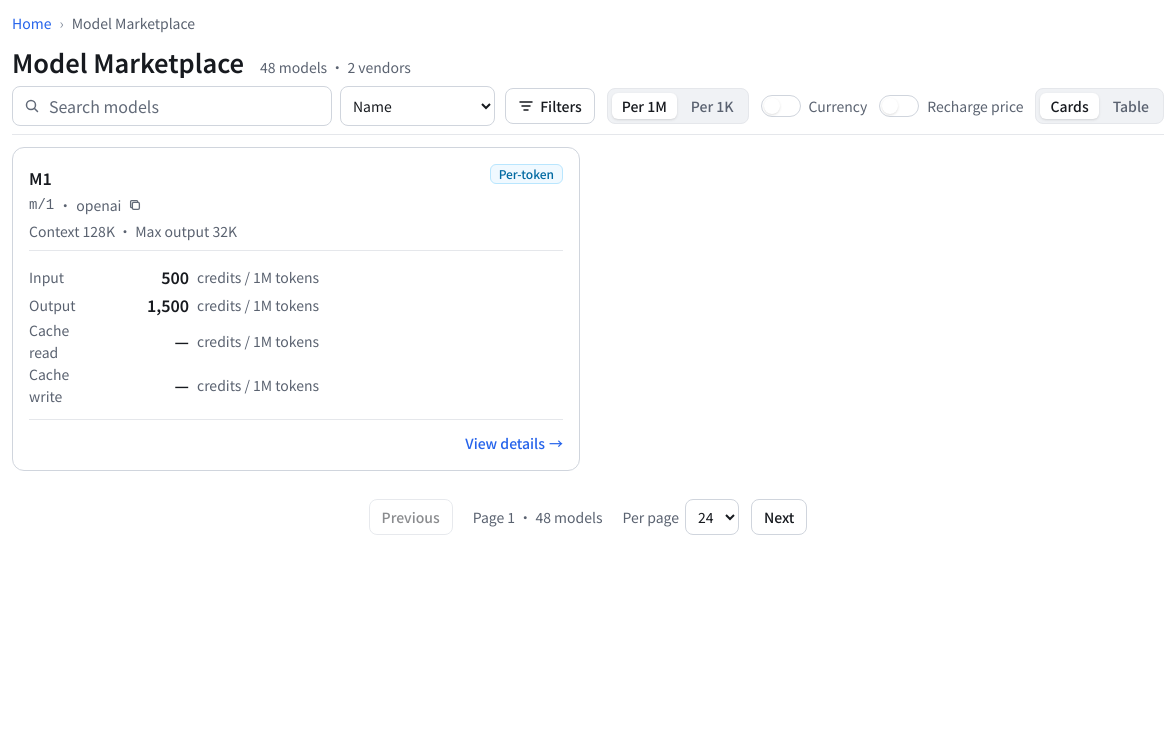
PricingPage (F-09-14 ~ F-09-22) › keeps previous data and requests the next offset page
Expected: the link "M1" is shown, [29,166,52,190]
Step 1. Click the button "Next" → x=779, y=517, box [751,499,807,535]
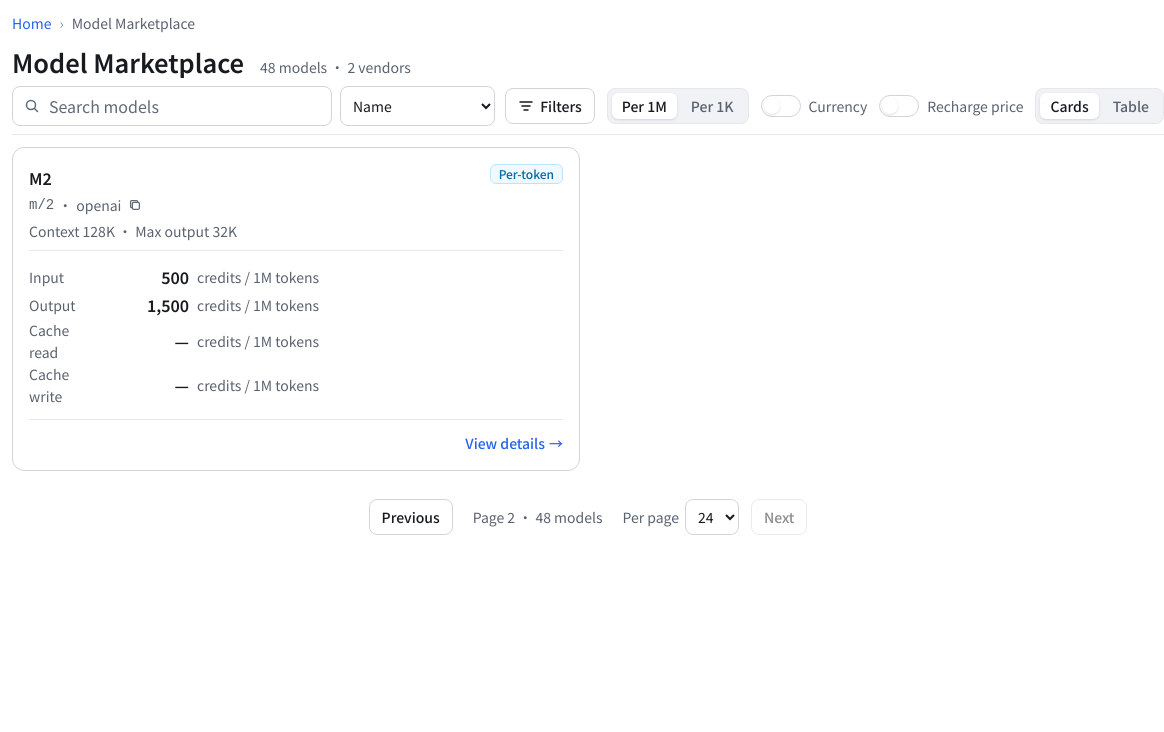
Expected: the link "M2" is shown, [29,166,52,190]
